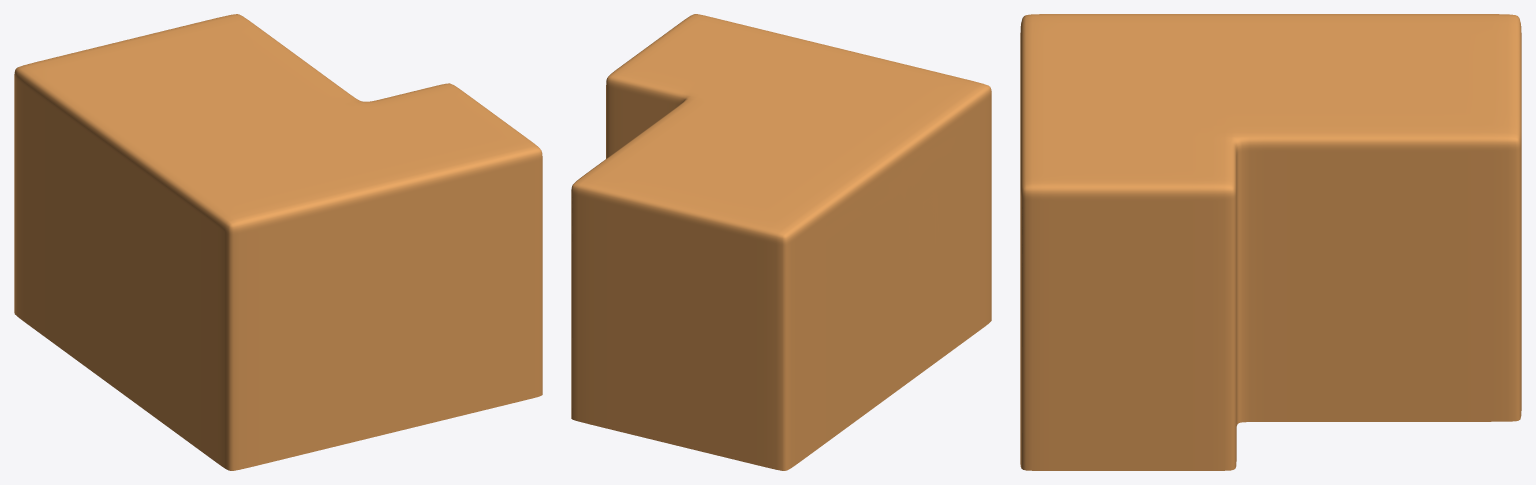
File: ROCA.fbx
The picture shows the model from 3 angles, left to right: view 1: azimuth 30°, elevation 25°; view 2: azimuth 150°, elevation 25°; view 3: azimuth 270°, elevation 25°; orthographic projection. The views are drawn at different scales.
Visible parts, largest first — view 1: Cube.003; view 2: Cube.003; view 3: Cube.003.
Boxes of the visible parts, x1,y1,x2,y2 form: Cube.003: (14,14,542,470); Cube.003: (571,14,991,470); Cube.003: (1020,14,1521,470).
Bounding box in the file's own units: 1123 × 841 × 1346.
